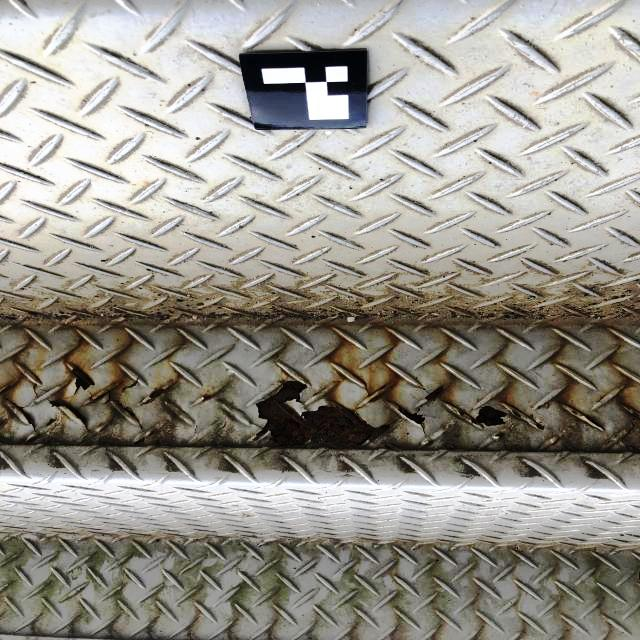Corrosion: (253, 379, 392, 449), (88, 380, 144, 432), (606, 382, 640, 453), (387, 399, 431, 437), (423, 383, 465, 416), (50, 399, 88, 432), (6, 397, 37, 433), (360, 377, 392, 404), (470, 405, 509, 427), (71, 366, 97, 397), (576, 409, 605, 430), (144, 387, 165, 404), (0, 379, 21, 394), (528, 417, 544, 431), (24, 433, 43, 444), (312, 386, 329, 398), (595, 392, 609, 405), (33, 381, 39, 399), (512, 410, 523, 419), (549, 435, 560, 444), (132, 438, 145, 445), (202, 394, 212, 403), (493, 433, 505, 440), (48, 418, 57, 426), (422, 439, 432, 446)
